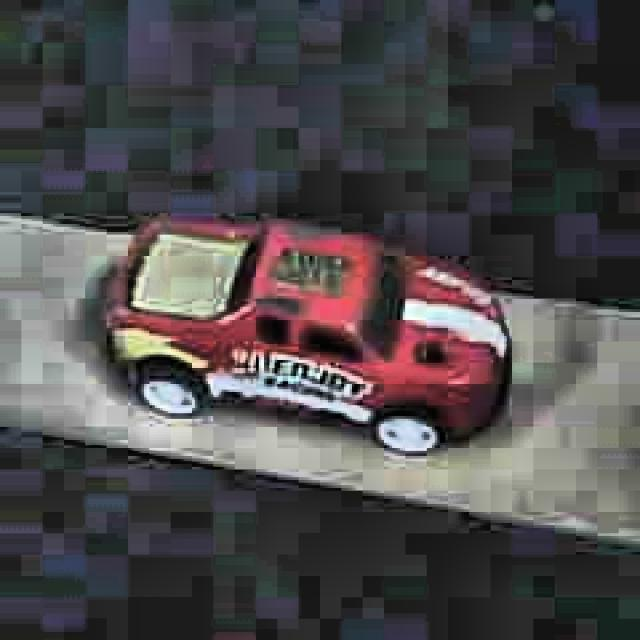car: (98, 212, 516, 462)
